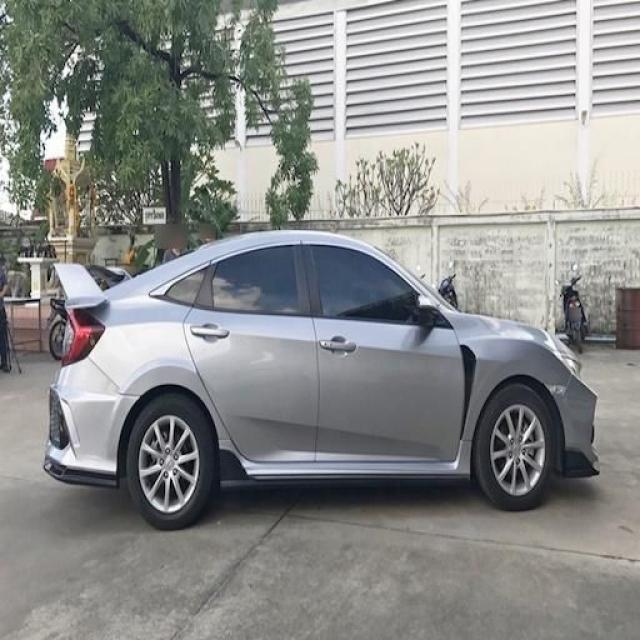back_right_door: (184, 241, 320, 462)
back_right_light: (60, 307, 104, 368)
front_right_door: (304, 241, 465, 462)
front_right_light: (555, 352, 581, 379)
right_mirror: (417, 296, 440, 327)
wheel: (126, 384, 556, 529)
